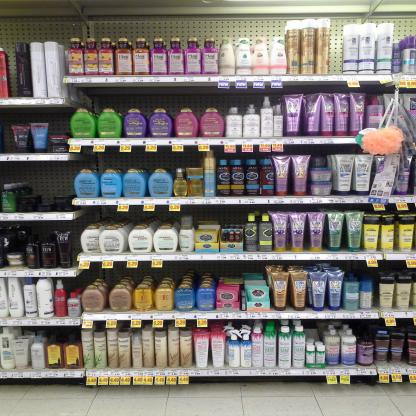Void: (78, 84, 261, 105), (95, 153, 196, 169), (33, 160, 77, 194), (172, 263, 260, 275), (196, 202, 244, 222), (347, 264, 366, 275)
